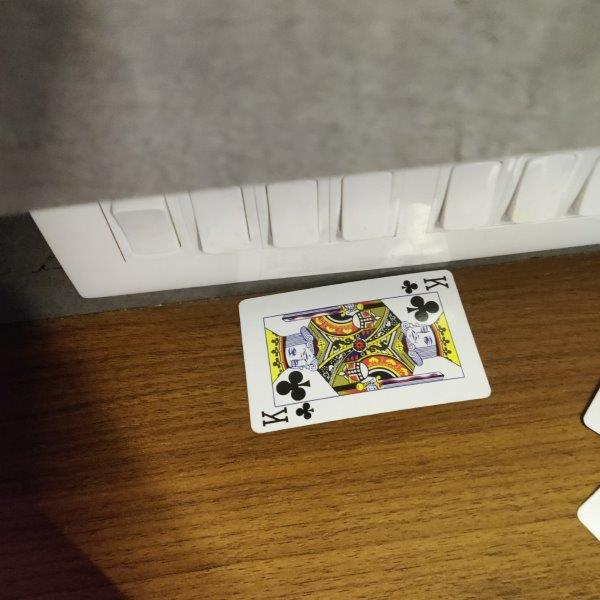King of Clubs: (237, 269, 492, 434)
